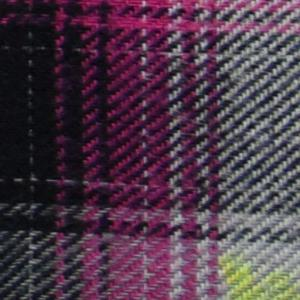Stain: (212, 254, 300, 300)
